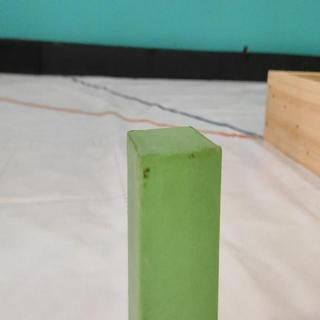greenbox: (127, 125, 223, 320)
